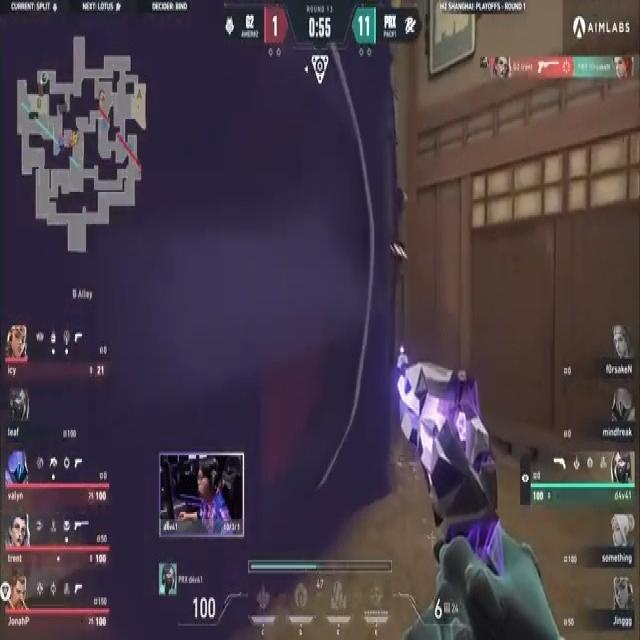smoke: (34, 25, 368, 545)
